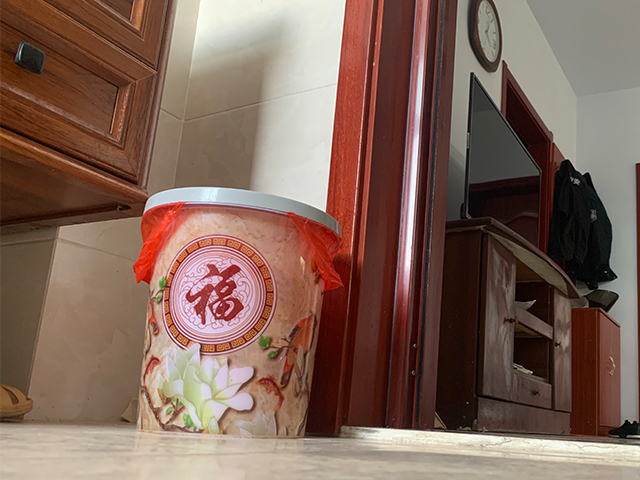cabinet: (433, 216, 582, 438), (571, 306, 622, 437)
trashcan: (135, 186, 342, 440)
